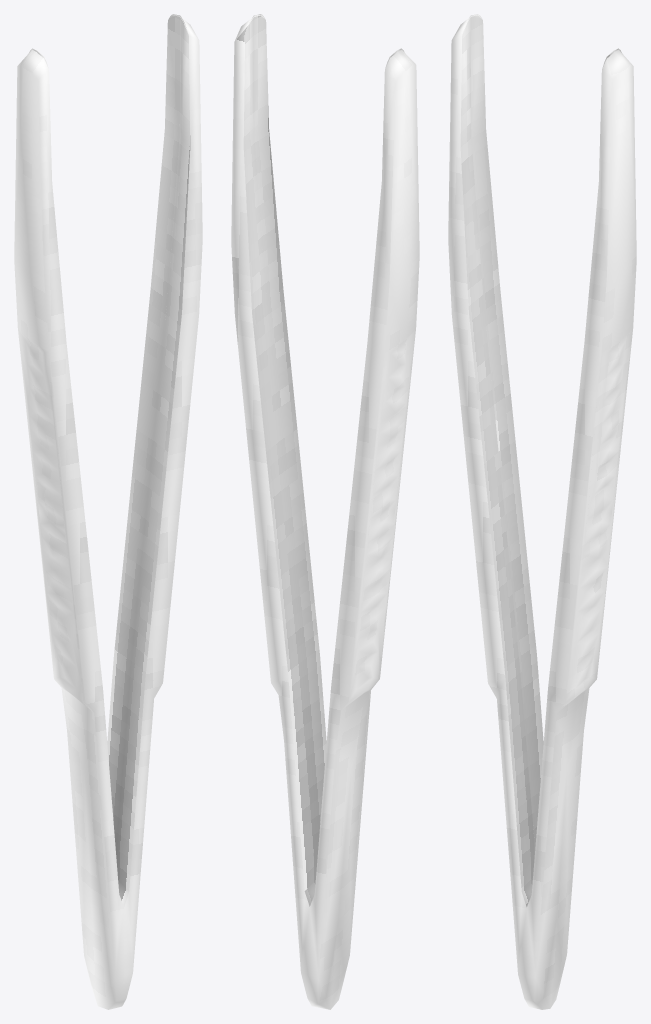
File: Tweezers.glb
3 views of the same model, side by side, from view 1: azimuth 30°, elevation 25°; view 2: azimuth 150°, elevation 25°; view 3: azimuth 330°, elevation 25° (orthographic).
Parts seen in each view (by area): view 1: Tweezers; view 2: Tweezers; view 3: Tweezers.
Part boxes in pixels (x1,y1,x2,y2): Tweezers: (14,14,202,1009); Tweezers: (231,14,419,1009); Tweezers: (448,14,636,1009).
Size of the model in its own units: 0.0309 by 0.1728 by 0.0101.
1 material, 1 textured.
